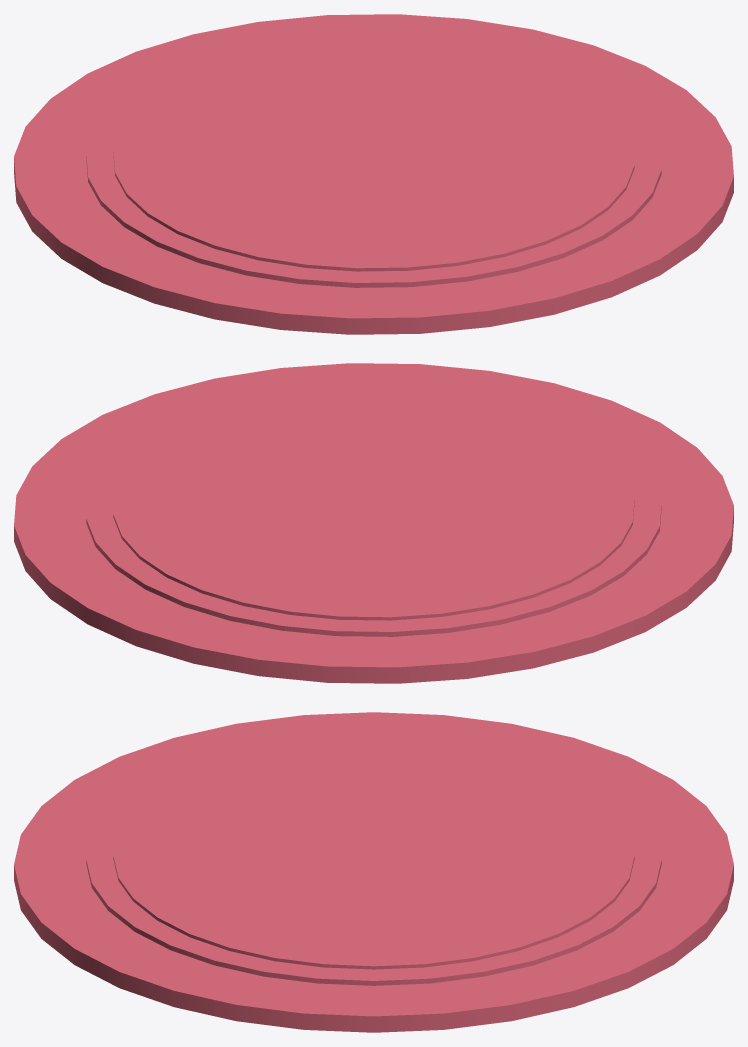
File: Stand.glb
The picture shows the model from 3 angles, top to bottom: view 1: azimuth 30°, elevation 25°; view 2: azimuth 150°, elevation 25°; view 3: azimuth 270°, elevation 25°; orthographic projection.
Parts seen in each view (by area): view 1: Stand; view 2: Stand; view 3: Stand.
Boxes of the visible parts, x1,y1,x2,y2 form: Stand: [14, 14, 733, 334]; Stand: [14, 363, 733, 683]; Stand: [14, 712, 733, 1032].
Bounding box in the file's own units: 4 × 0.1499 × 4.
